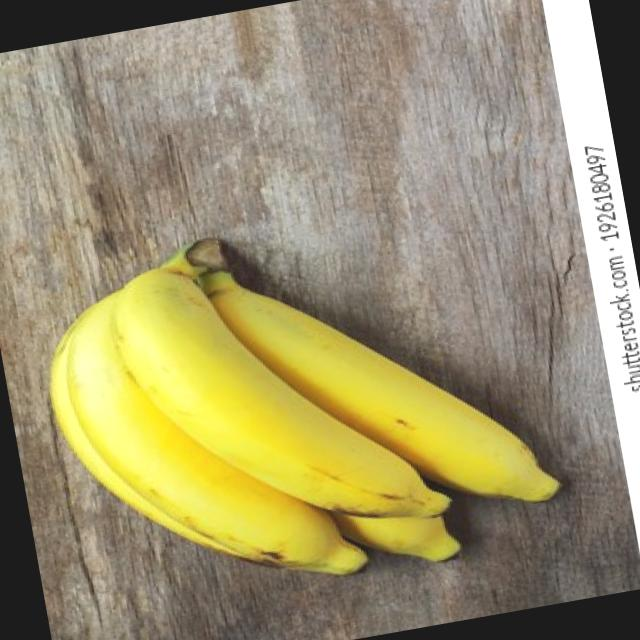banana: (24, 179, 580, 626)
